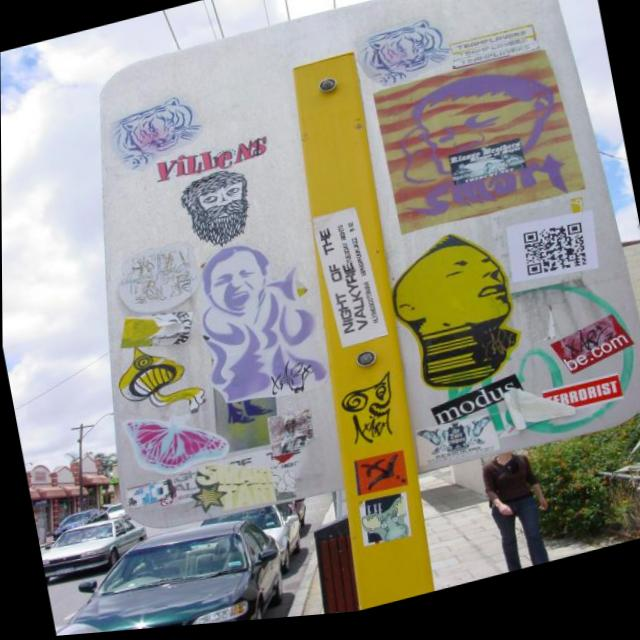qrcode: (521, 229, 588, 289)
